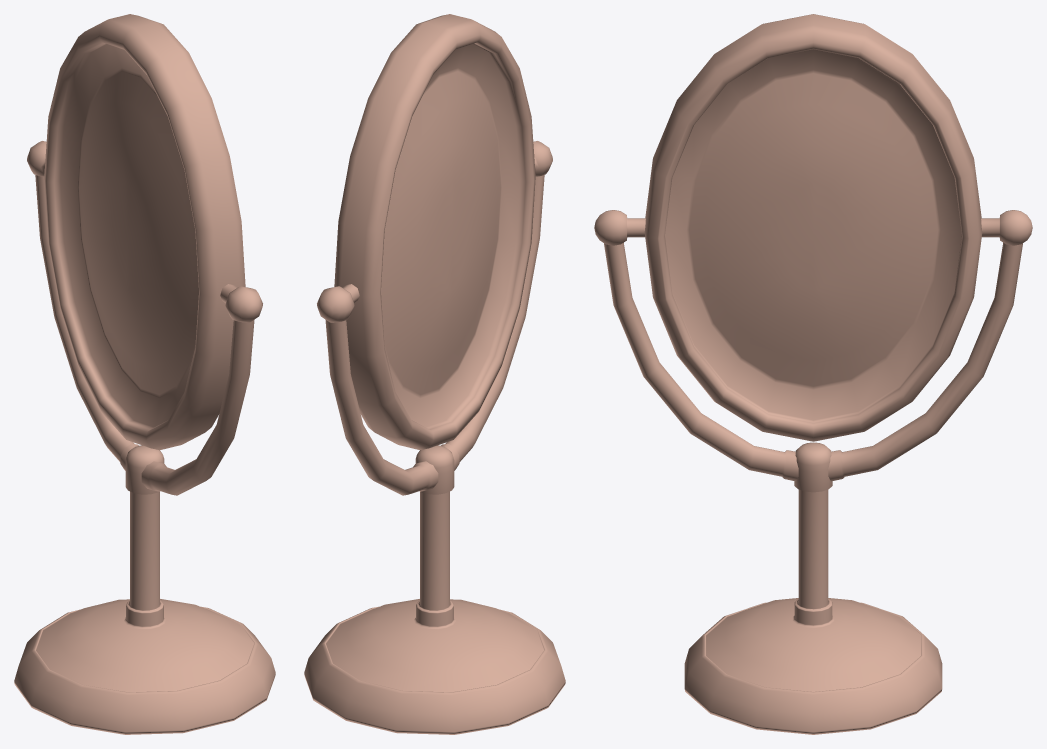
Rendered from Makeup mirror.fbx.
3 renders of one model, left to right at view 1: azimuth 30°, elevation 25°; view 2: azimuth 150°, elevation 25°; view 3: azimuth 270°, elevation 25°, orthographic.
Visible parts, largest first — view 1: makeup; view 2: makeup; view 3: makeup.
Part boxes in pixels (x1=…): makeup: x1=14, y1=14, x2=275, y2=734; makeup: x1=304, y1=14, x2=565, y2=734; makeup: x1=594, y1=14, x2=1032, y2=734.
Bounding box in the file's own units: 0.137 × 0.3773 × 0.2273.
